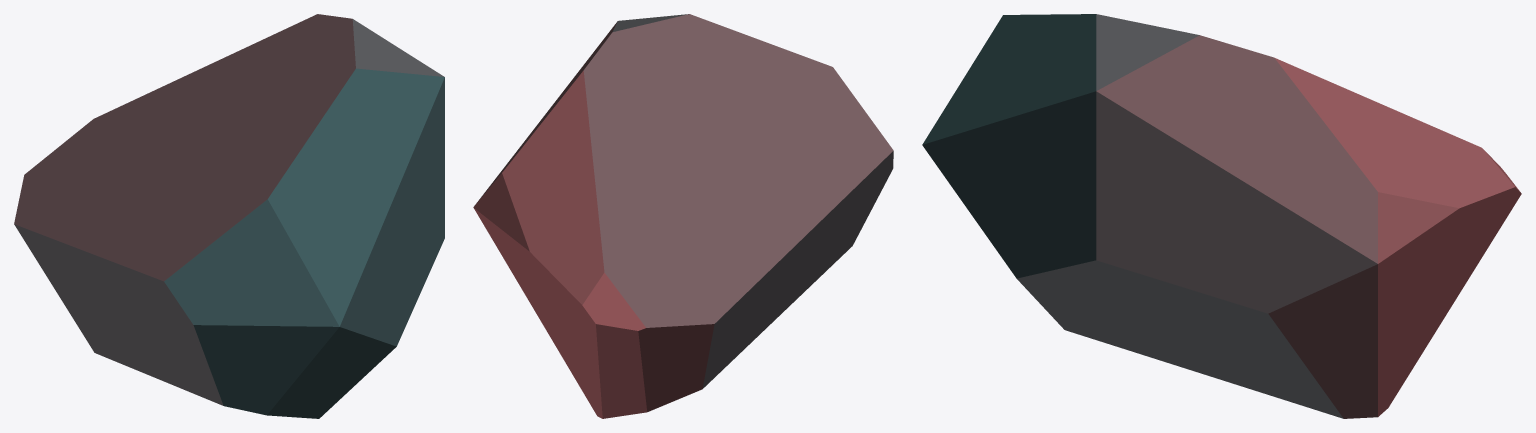
Rendered from gemstone_anim_5_10_10.glb.
3 renders of one model, left to right at view 1: azimuth 30°, elevation 25°; view 2: azimuth 150°, elevation 25°; view 3: azimuth 270°, elevation 25°, orthographic. The views are drawn at different scales.
Parts seen in each view (by area): view 1: gemstone_anim_5_10_10; view 2: gemstone_anim_5_10_10; view 3: gemstone_anim_5_10_10.
Boxes of the visible parts, bbox=[...] form: gemstone_anim_5_10_10: bbox=[14, 14, 444, 418]; gemstone_anim_5_10_10: bbox=[473, 14, 893, 418]; gemstone_anim_5_10_10: bbox=[922, 14, 1521, 418].
Size of the model in its own units: 1446 by 1542 by 2015.
